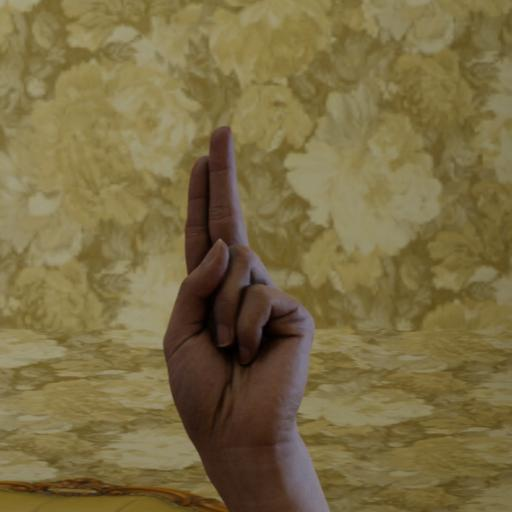U: (140, 111, 323, 460)
